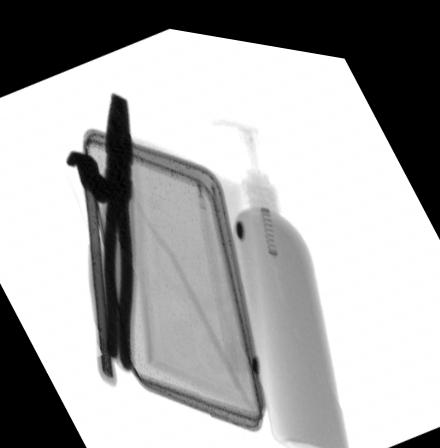Hammer: (63, 147, 115, 384)
Pliers: (101, 89, 136, 365)
